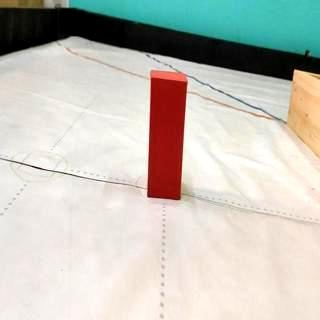redbox: (146, 68, 188, 200)
